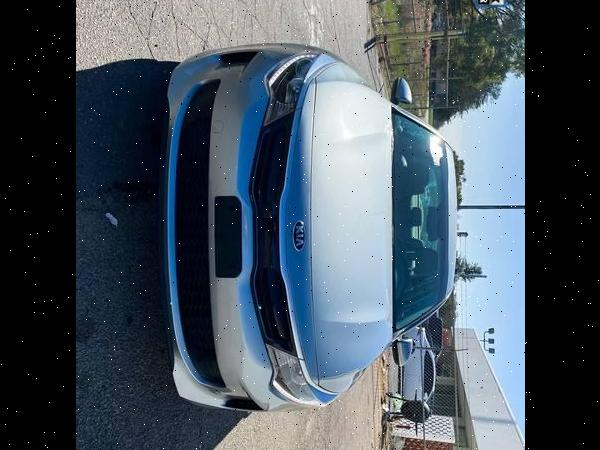Front_Bumper: (162, 43, 308, 410)
Front_Windshield: (390, 104, 450, 339)
Grille: (250, 107, 301, 360)
Hood: (277, 57, 393, 392)
Left_Headlight: (266, 343, 337, 405)
Left_Mirror: (388, 340, 414, 365)
Right_Headlight: (267, 51, 325, 126)
Right_Mirror: (391, 79, 412, 103)
